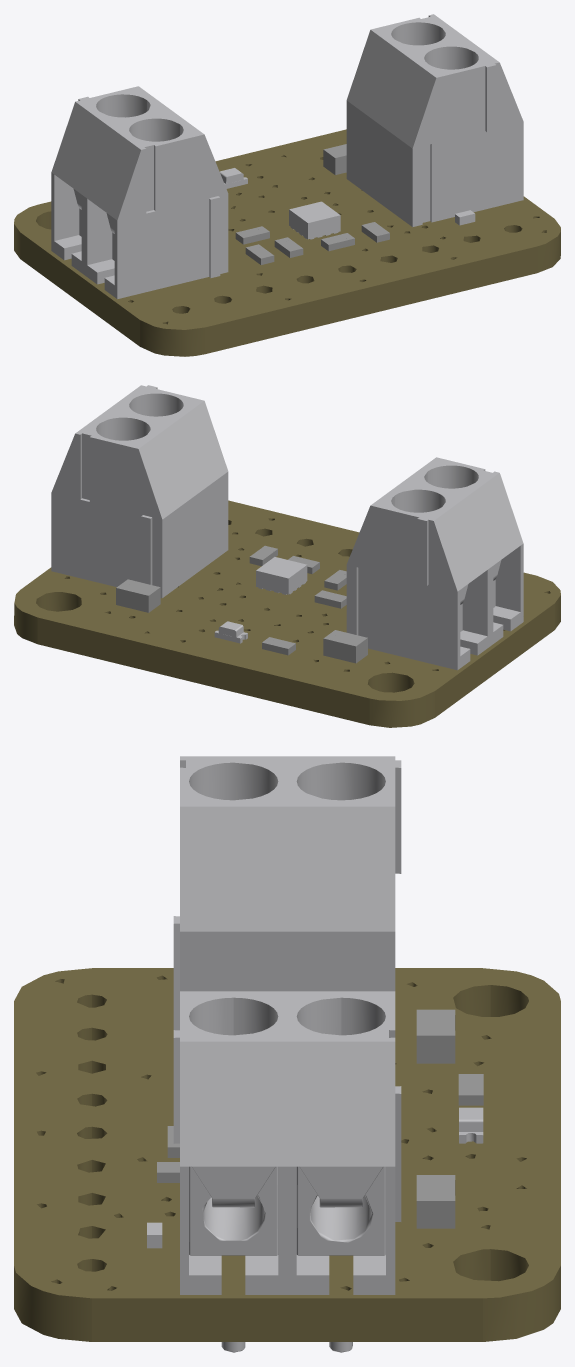
File: ada-6359.glb
3 renders of one model, top to bottom at view 1: azimuth 30°, elevation 25°; view 2: azimuth 150°, elevation 25°; view 3: azimuth 270°, elevation 25°, orthographic. The views are drawn at different scales.
Parts seen in each view (by area): view 1: 0.5833333333333334_0.5833333333333334_0.5833333333333334_0.8, 0.16666666666666666_0.16666666666666666_0.08333333333333333_, 0.3333333333333333_0.3333333333333333_0.3333333333333333_0; view 2: 0.5833333333333334_0.5833333333333334_0.5833333333333334_0.8, 0.16666666666666666_0.16666666666666666_0.08333333333333333_, 0.3333333333333333_0.3333333333333333_0.3333333333333333_0; view 3: 0.16666666666666666_0.16666666666666666_0.08333333333333333_, 0.5833333333333334_0.5833333333333334_0.5833333333333334_0.8, 0.3333333333333333_0.3333333333333333_0.3333333333333333_0.
Boxes of the visible parts, <box> form: 0.5833333333333334_0.5833333333333334_0.5833333333333334_0.8: <box>51,14,523,298</box>; 0.16666666666666666_0.16666666666666666_0.08333333333333333_: <box>14,129,560,356</box>; 0.3333333333333333_0.3333333333333333_0.3333333333333333_0: <box>235,144,389,264</box>; 0.5833333333333334_0.5833333333333334_0.5833333333333334_0.8: <box>51,385,523,670</box>; 0.16666666666666666_0.16666666666666666_0.08333333333333333_: <box>14,500,560,727</box>; 0.3333333333333333_0.3333333333333333_0.3333333333333333_0: <box>116,545,367,663</box>; 0.16666666666666666_0.16666666666666666_0.08333333333333333_: <box>14,968,560,1341</box>; 0.5833333333333334_0.5833333333333334_0.5833333333333334_0.8: <box>147,756,483,1352</box>; 0.3333333333333333_0.3333333333333333_0.3333333333333333_0: <box>157,1009,483,1228</box>.
Bounding box in the file's own units: 2.54 × 1.19 × 1.78.
